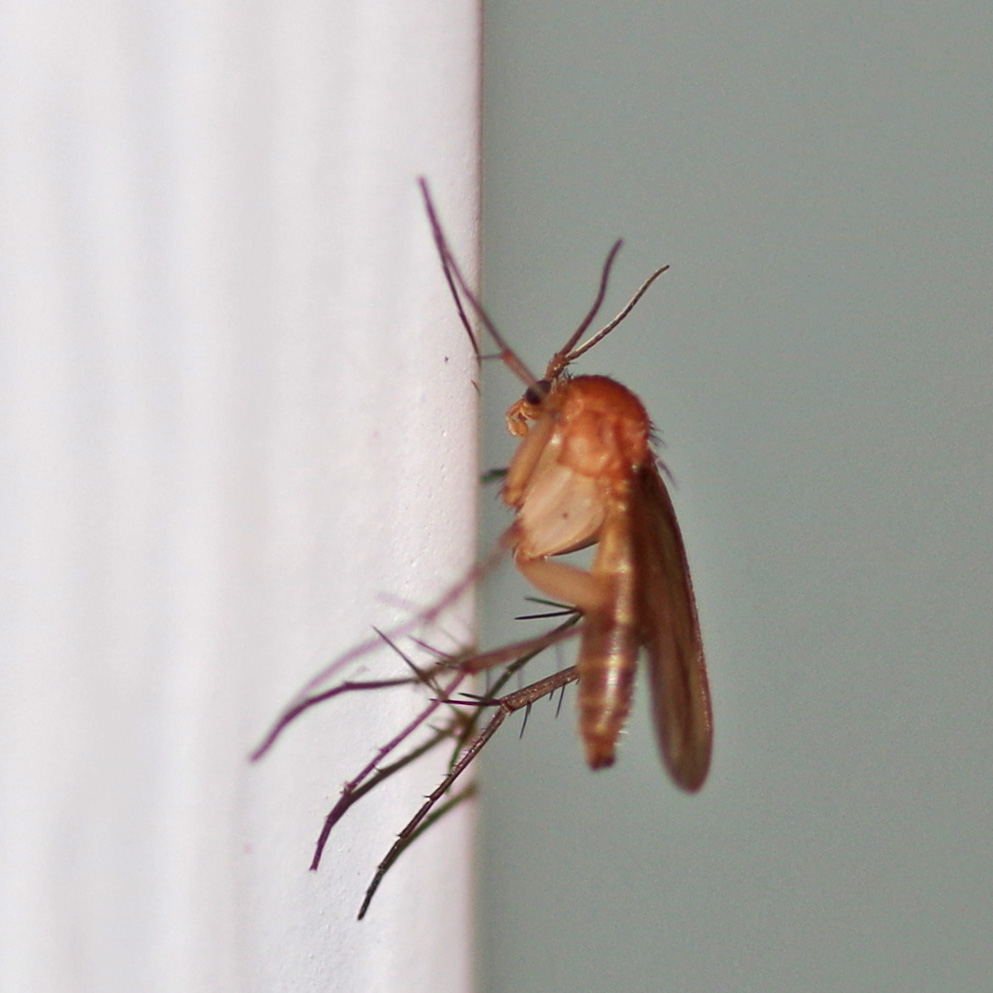Fruit fly: (313, 264, 779, 947)
